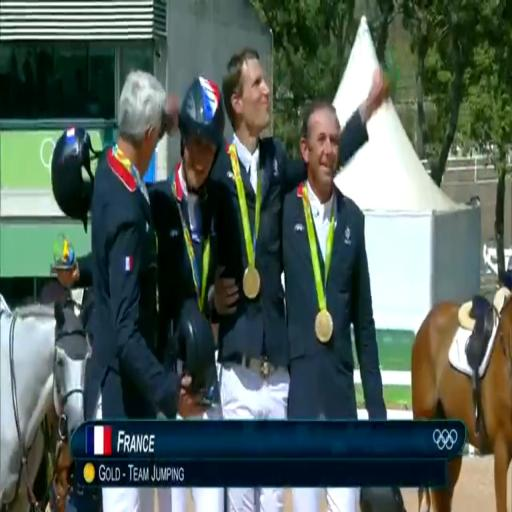nao-violencia: (82, 32, 398, 421)
